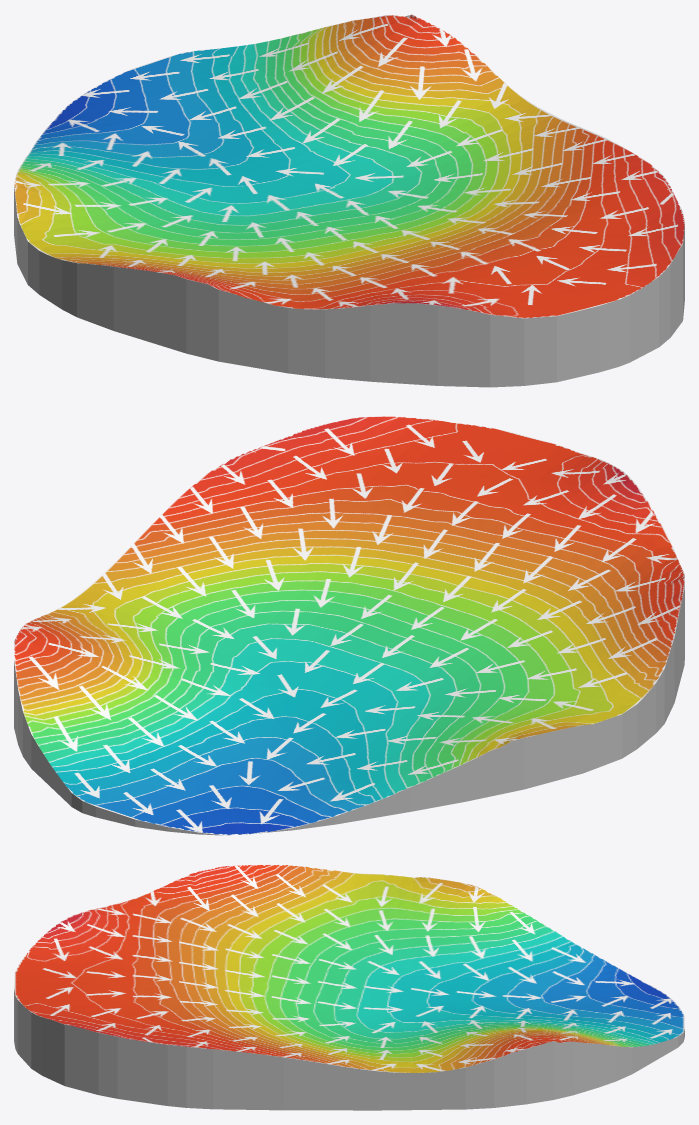
The picture shows the model from 3 angles, top to bottom: view 1: azimuth 30°, elevation 25°; view 2: azimuth 150°, elevation 25°; view 3: azimuth 270°, elevation 25°; orthographic projection. The views are drawn at different scales.
Size of the model in its own units: 5.16 by 0.7737 by 7.24.
2 materials, 1 textured.
